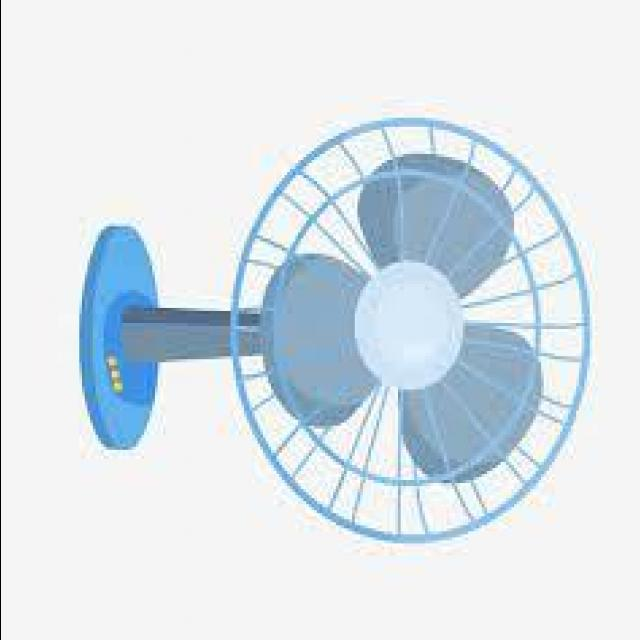fan: (76, 105, 592, 558)
